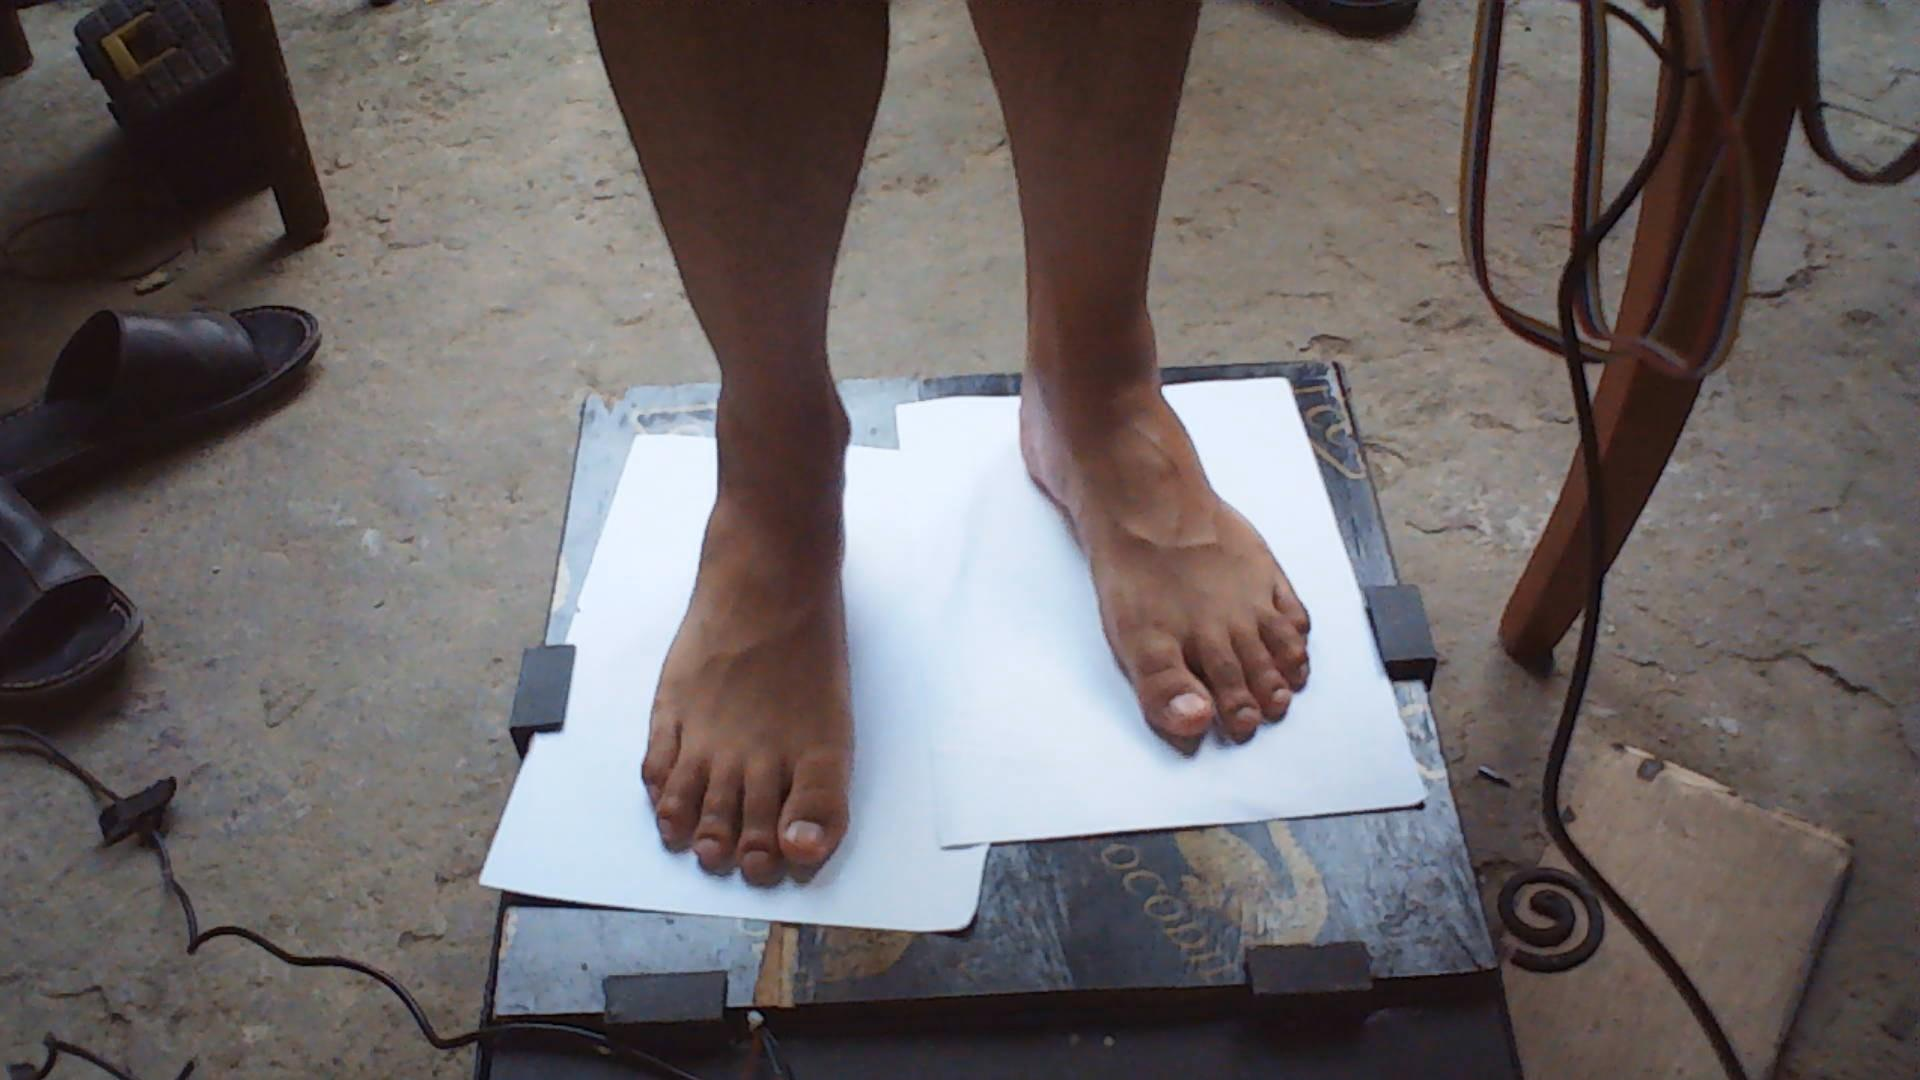Bare_feet: (992, 393, 1333, 764), (624, 401, 878, 880)
